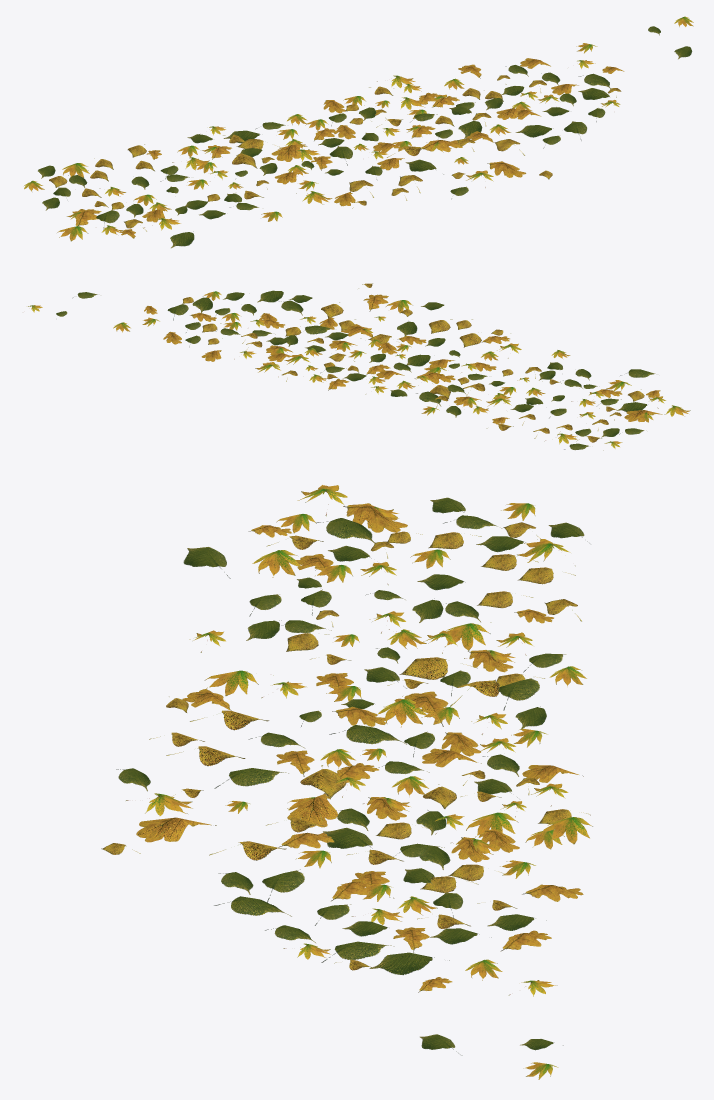
The model's file is Fallen_Leaves_02.fbx.
The picture shows the model from 3 angles, top to bottom: view 1: azimuth 30°, elevation 25°; view 2: azimuth 150°, elevation 25°; view 3: azimuth 270°, elevation 25°; orthographic projection. The views are drawn at different scales.
Visible parts, largest first — view 1: Fallen_Leaves_02_LOD0; view 2: Fallen_Leaves_02_LOD0; view 3: Fallen_Leaves_02_LOD0.
Part boxes in pixels (x1=…): Fallen_Leaves_02_LOD0: x1=24, y1=16, x2=693, y2=248; Fallen_Leaves_02_LOD0: x1=28, y1=283, x2=690, y2=450; Fallen_Leaves_02_LOD0: x1=101, y1=485, x2=592, y2=1079.
Size of what is drawn, in the model's own units: 399 by 5.75 by 147.
